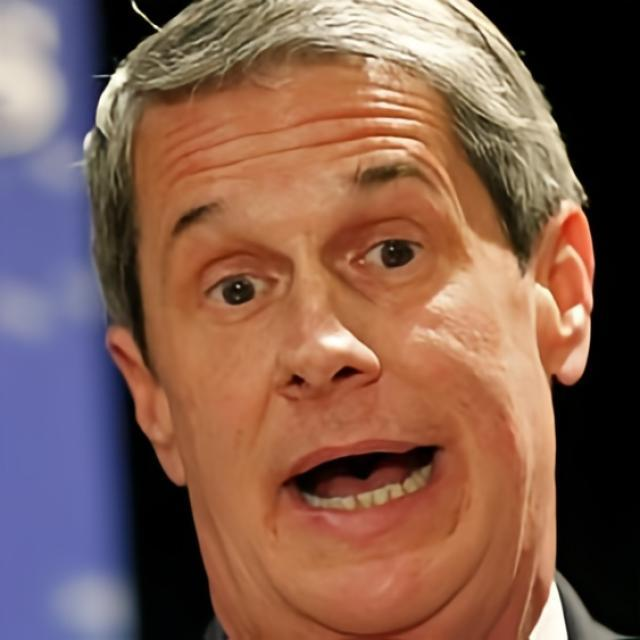fear: (128, 49, 533, 639)
